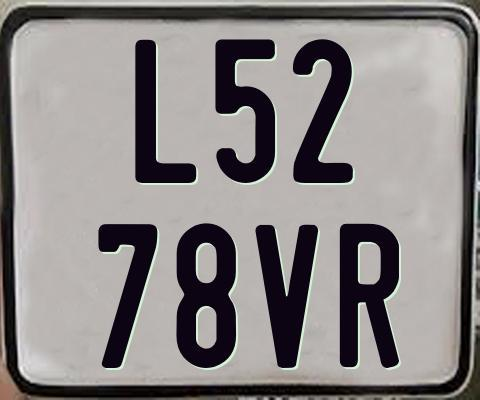2: (290, 37, 354, 182)
5: (212, 39, 277, 186)
7: (95, 223, 155, 370)
8: (173, 220, 237, 368)
L: (132, 38, 193, 181)
R: (337, 222, 398, 367)
V: (254, 224, 321, 368)
